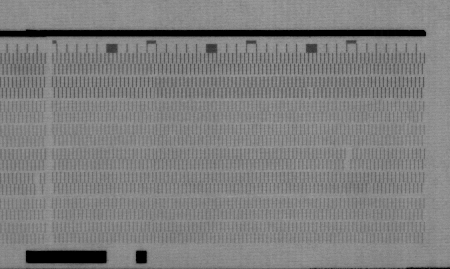Broken hole: (32, 172, 44, 195), (342, 148, 354, 168), (365, 183, 375, 196)
Oblique printing: (305, 88, 315, 100)
